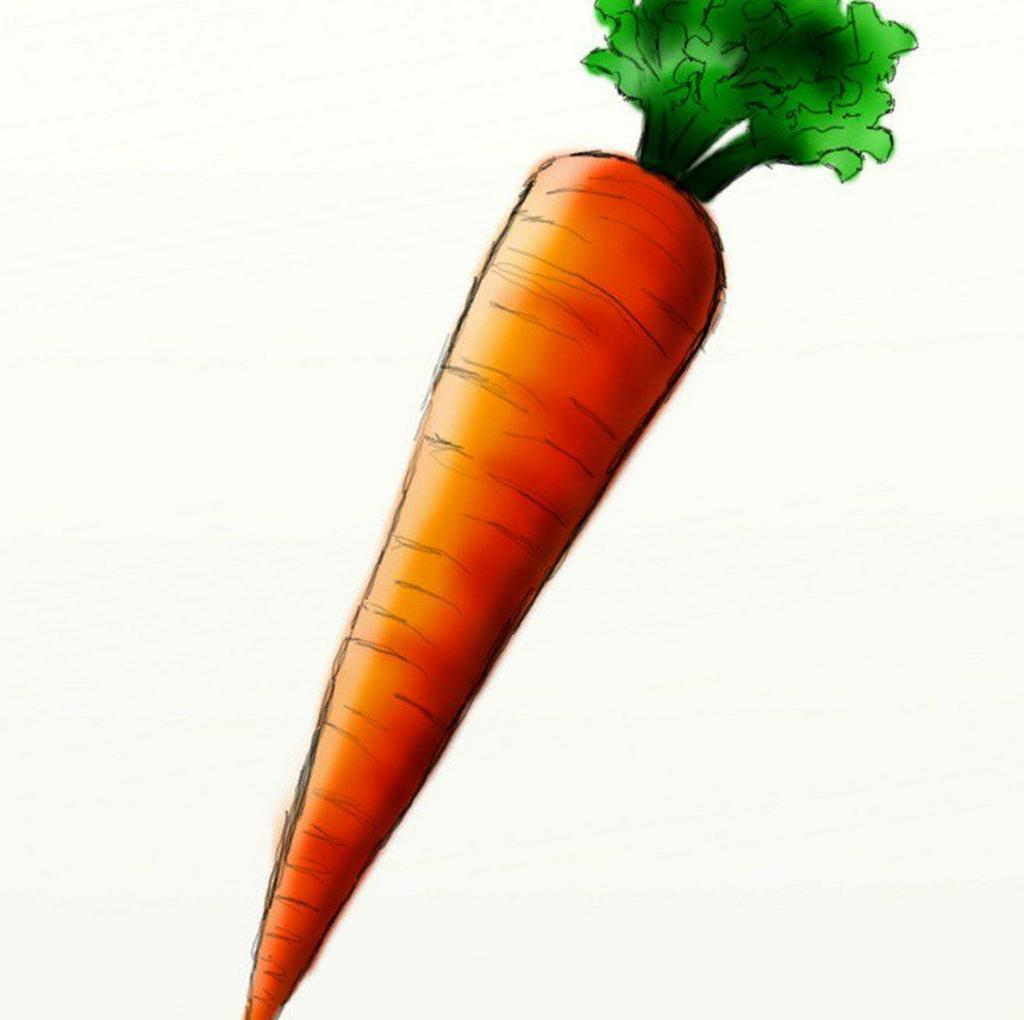carrot: (226, 18, 825, 1020)
